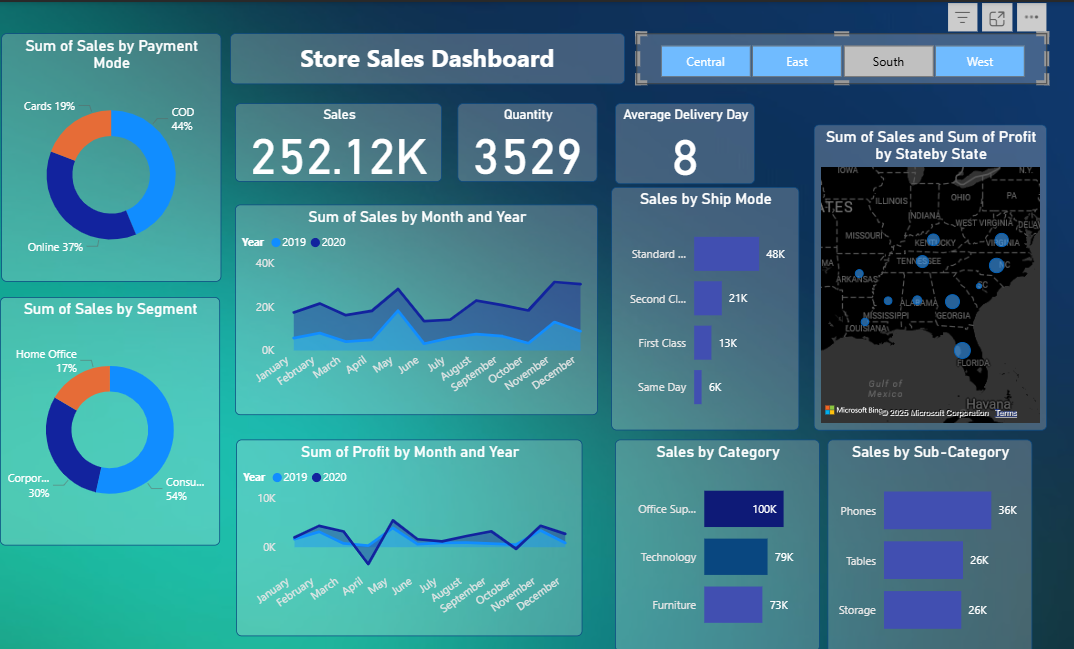

The page's visual inventory and layout, read from the dashboard file:
{"tool":"powerbi","page":{"name":"Page 1","canvas":[1280,720],"ordinal":0},"visuals":[{"type":"clusteredBarChart","title":"Sales by Category","fields":{"Category":["SuperStore_Sales_Dataset.Category"],"Y":["Sum(SuperStore_Sales_Dataset.Sales)"]},"box":[675,480,225,232.5],"z":0},{"type":"clusteredBarChart","title":"Sales by Sub-Category","fields":{"Y":["Sum(SuperStore_Sales_Dataset.Sales)"],"Category":["SuperStore_Sales_Dataset.Sub-Category"]},"box":[908.8,480,225,240],"z":1000},{"type":"clusteredBarChart","title":"Sales by Ship Mode","fields":{"Category":["SuperStore_Sales_Dataset.Ship Mode"],"Y":["Sum(SuperStore_Sales_Dataset.Sales)"]},"box":[671.2,203.8,206.2,267.5],"z":2000},{"type":"stackedAreaChart","fields":{"Category":["SuperStore_Sales_Dataset.Order Date.Variation.Date Hierarchy.Month","SuperStore_Sales_Dataset.Order Date.Variation.Date Hierarchy.Day"],"Y":["Sum(SuperStore_Sales_Dataset.Sales)"],"Series":["SuperStore_Sales_Dataset.Order Date.Variation.Date Hierarchy.Year"]},"box":[257.5,222.5,398.8,231.2],"z":3000},{"type":"stackedAreaChart","fields":{"Category":["SuperStore_Sales_Dataset.Order Date.Variation.Date Hierarchy.Month","SuperStore_Sales_Dataset.Order Date.Variation.Date Hierarchy.Day"],"Series":["SuperStore_Sales_Dataset.Order Date.Variation.Date Hierarchy.Year"],"Y":["Sum(SuperStore_Sales_Dataset.Profit)"]},"box":[260,480,380,216.2],"z":4000},{"type":"map","title":"Sum of Sales and Sum of Profit by Stateby State","fields":{"Category":["SuperStore_Sales_Dataset.State"],"Size":["Sum(SuperStore_Sales_Dataset.Sales)"]},"box":[893.8,135,256.2,336.2],"z":4002},{"type":"donutChart","fields":{"Category":["SuperStore_Sales_Dataset.Payment Mode"],"Y":["Sum(SuperStore_Sales_Dataset.Sales)"]},"box":[1.2,33.8,241.2,272.5],"z":4004},{"type":"donutChart","fields":{"Category":["SuperStore_Sales_Dataset.Segment"],"Y":["Sum(SuperStore_Sales_Dataset.Sales)"]},"box":[0,323.8,241.2,272.5],"z":4005},{"type":"slicer","fields":{"Values":["SuperStore_Sales_Dataset.Region"]},"box":[698.8,33.8,451.2,56.2],"z":4006},{"type":"textbox","box":[252.5,33.8,433.8,56.2],"z":4007},{"type":"card","title":"Sales","fields":{"Values":["Sum(SuperStore_Sales_Dataset.Sales)"]},"box":[257.5,111.2,227.5,86.2],"z":4008},{"type":"card","title":"Quantity","fields":{"Values":["Sum(SuperStore_Sales_Dataset.Quantity)"]},"box":[502.5,111.2,153.8,86.2],"z":4009},{"type":"card","title":"Average Delivery Day","fields":{"Values":["Avg(SuperStore_Sales_Dataset.AvgDelivery)"]},"box":[675,111.2,153.8,88.8],"z":4010}]}

Visuals, with their boxes on the page's 1280x720 design canvas (x1, y1, x2, y2). These are canvas units, not pixel positions in the 1074x649 screenshot, which may show the page scaled, cropped or inside an application window:
"Sales by Category" clusteredBarChart: l=675, t=480, r=900, b=712
"Sales by Sub-Category" clusteredBarChart: l=909, t=480, r=1134, b=720
"Sales by Ship Mode" clusteredBarChart: l=671, t=204, r=877, b=471
stackedAreaChart - SuperStore_Sales_Dataset.Order Date.Variation.Date Hierarchy.Month x SuperStore_Sales_Dataset.Order Date.Variation.Date Hierarchy.Day: l=258, t=222, r=656, b=454
stackedAreaChart - SuperStore_Sales_Dataset.Order Date.Variation.Date Hierarchy.Month x SuperStore_Sales_Dataset.Order Date.Variation.Date Hierarchy.Day: l=260, t=480, r=640, b=696
"Sum of Sales and Sum of Profit by Stateby State" map: l=894, t=135, r=1150, b=471
donutChart - SuperStore_Sales_Dataset.Payment Mode x Sum(SuperStore_Sales_Dataset.Sales): l=1, t=34, r=242, b=306
donutChart - SuperStore_Sales_Dataset.Segment x Sum(SuperStore_Sales_Dataset.Sales): l=0, t=324, r=241, b=596
slicer - SuperStore_Sales_Dataset.Region: l=699, t=34, r=1150, b=90
textbox: l=252, t=34, r=686, b=90
"Sales" card: l=258, t=111, r=485, b=197
"Quantity" card: l=502, t=111, r=656, b=197
"Average Delivery Day" card: l=675, t=111, r=829, b=200
